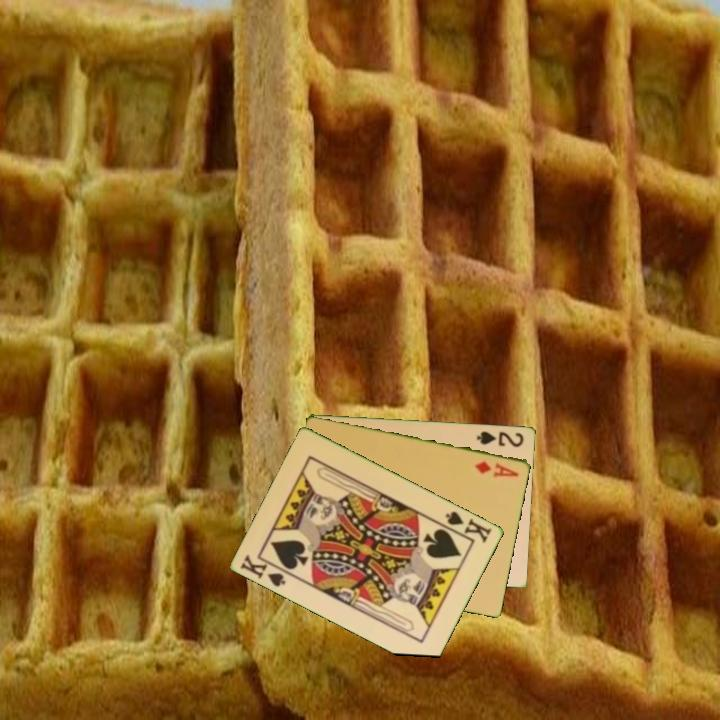2s: (473, 427, 527, 450)
Ad: (471, 457, 522, 479)
Ks: (237, 550, 295, 590), (442, 507, 495, 545)
